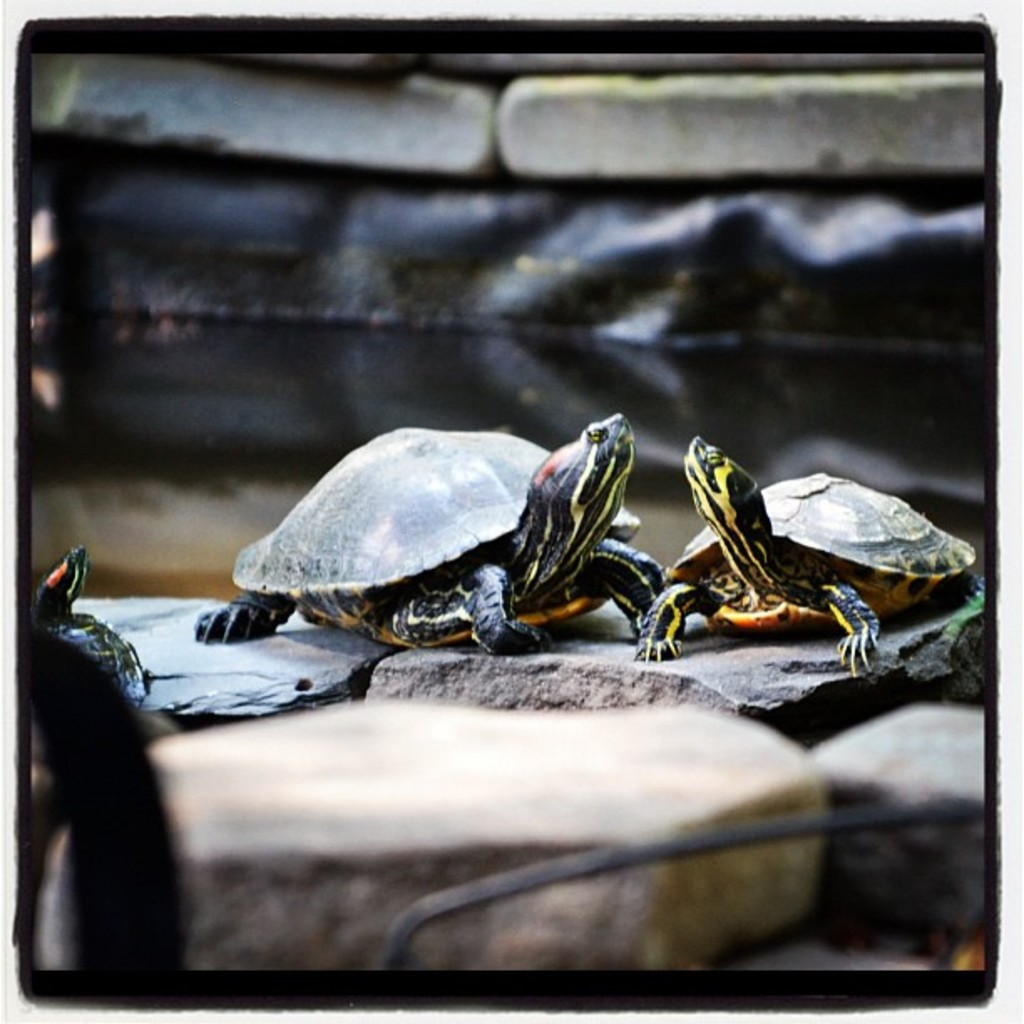Sea turtles: (192, 409, 675, 655), (630, 431, 982, 682), (28, 542, 145, 707)
